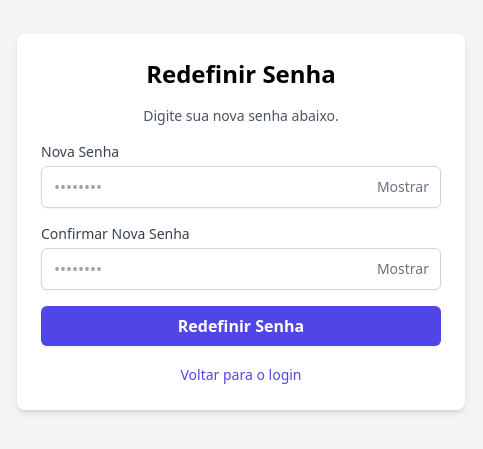
it: Página ResetPasswordPage › deve exibir erro se a API falhar (ex: token expirado)
Type "senha123" into the password field labelled "Nova Senha". click: (241, 187)
box: [41,166,441,208]
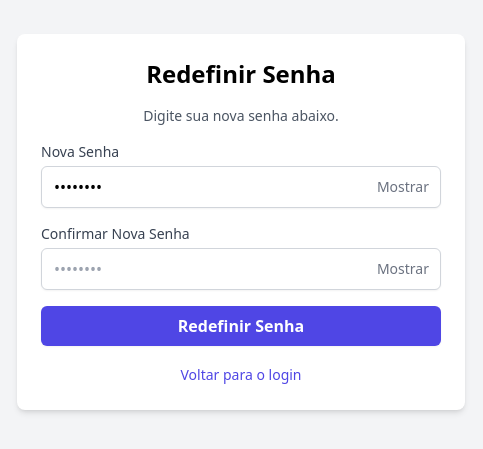
Type "senha123" into the password field labelled "Confirmar Nova Senha". click: (241, 269)
box: [41,248,441,290]
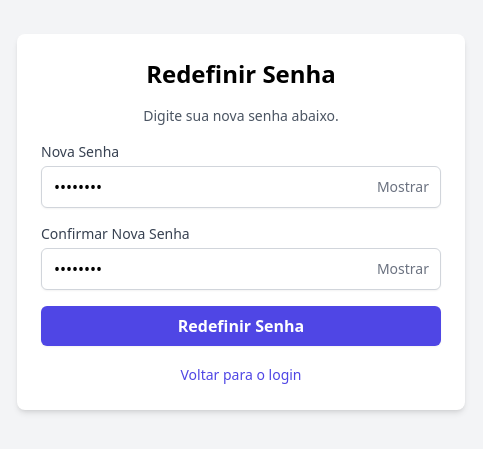
Click the button "Redefinir Senha". click: (241, 326)
box: [41,306,441,346]
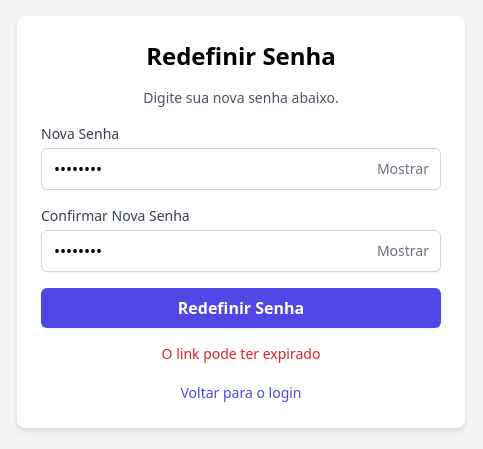
expect the text "O link pode ter expirado" is shown: met, box [162,344,320,363]
